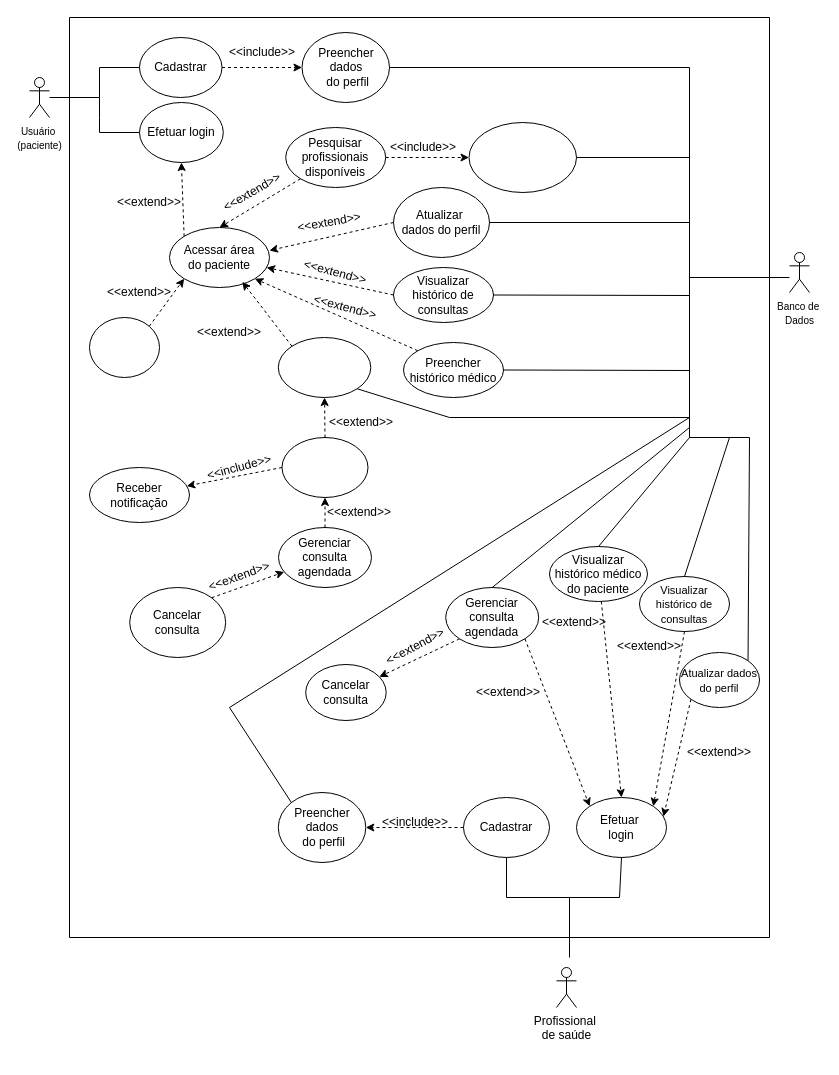
This 839x1075 diagram has some shape labels left out. The centre of each missing label's shape, as x and y in pixels:
Agendar consulta: the point at 324,467
Avaliar consulta: the point at 124,347
Visualizar horários disponíveis: the point at 324,367
Vizualizar profissionais por especialidade: the point at 522,157
